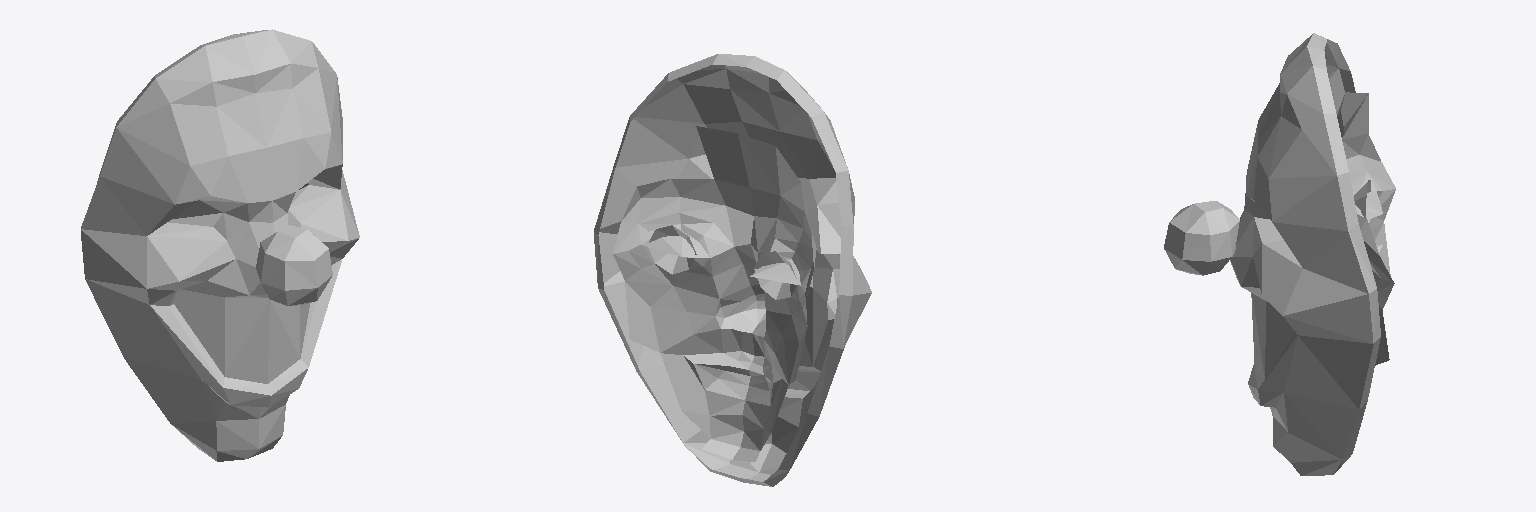
File: RedMask.obj
The picture shows the model from 3 angles: view 1: azimuth 30°, elevation 25°; view 2: azimuth 150°, elevation 25°; view 3: azimuth 270°, elevation 25°; orthographic projection.
Visible parts, largest first — view 1: Mesh_2669.rip_Mesh_2669.rip_mesh0000; view 2: Mesh_2669.rip_Mesh_2669.rip_mesh0000; view 3: Mesh_2669.rip_Mesh_2669.rip_mesh0000.
Part boxes in pixels (bbox=[...]): Mesh_2669.rip_Mesh_2669.rip_mesh0000: bbox=[81, 29, 359, 461]; Mesh_2669.rip_Mesh_2669.rip_mesh0000: bbox=[594, 54, 871, 486]; Mesh_2669.rip_Mesh_2669.rip_mesh0000: bbox=[1164, 33, 1395, 475].
Bounding box in the file's own units: 1.04 × 1.61 × 0.8096.